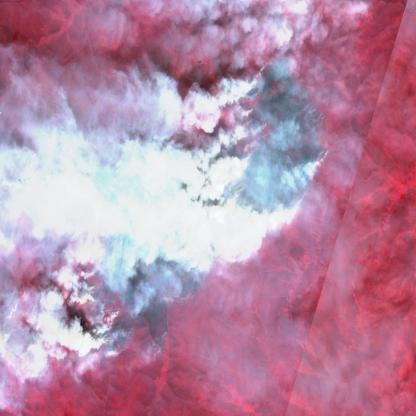fire: (224, 66, 333, 224), (85, 245, 140, 362), (80, 162, 111, 200)
